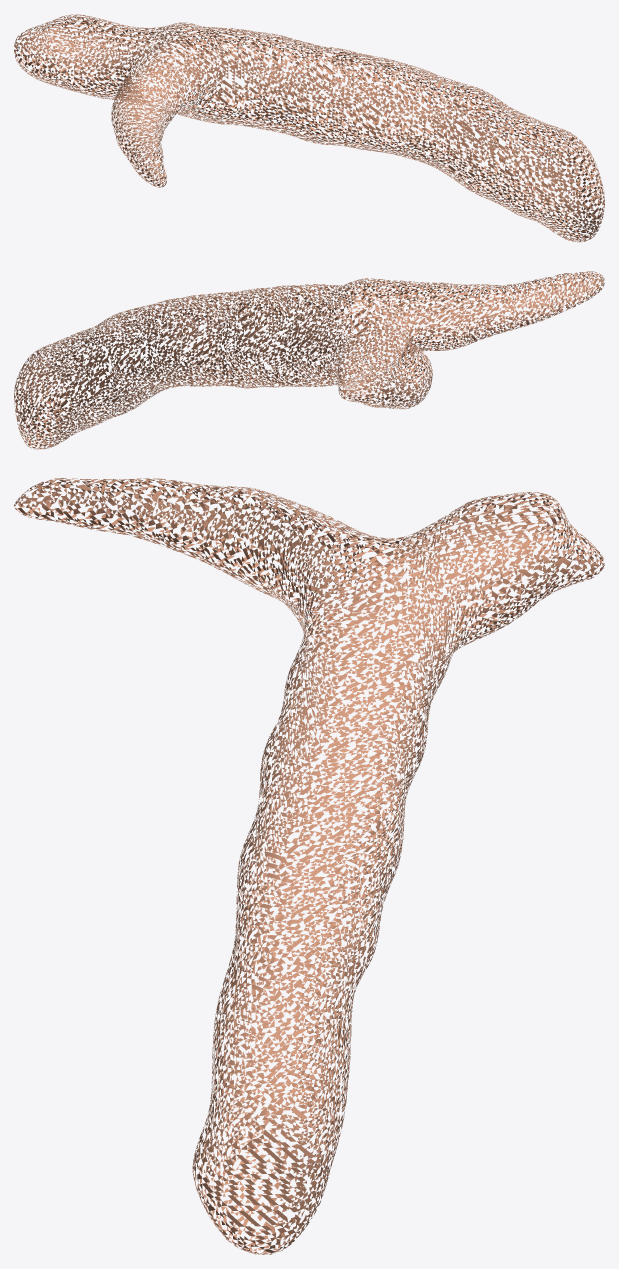
File: morph_004.glb
3 views of the same model, one above another, from view 1: azimuth 30°, elevation 25°; view 2: azimuth 150°, elevation 25°; view 3: azimuth 270°, elevation 25° (orthographic). The views are drawn at different scales.
Bounding box in the file's own units: 120 × 61.42 × 75.62.
